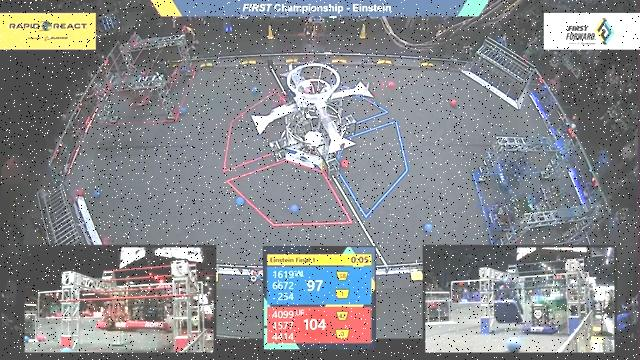Robot: (524, 183, 576, 226), (489, 145, 533, 193), (140, 50, 181, 89), (485, 193, 520, 237), (124, 73, 151, 114)
